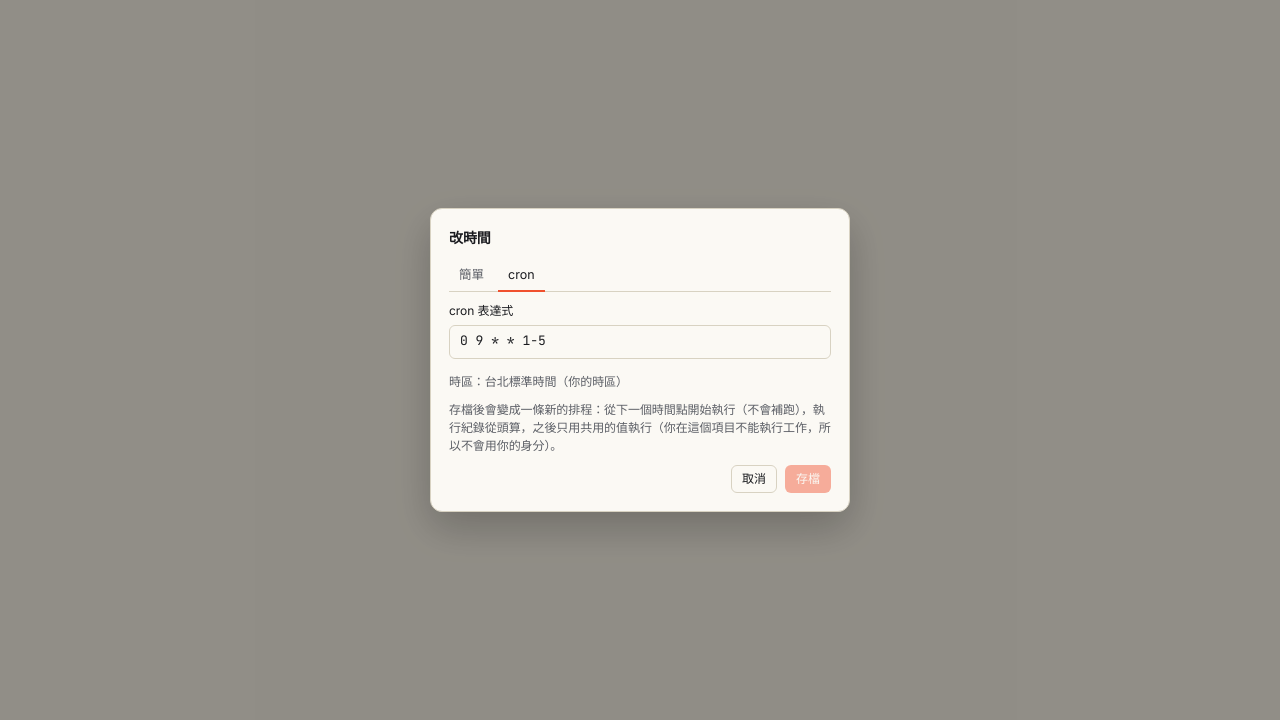
Test case: ScheduleTimeModal — 簡單 / cron (docs/plan-schedule-cron.md decision 4) › asks once before throwing an edited cron away
Type "0 9 * * 1-6" into the field labelled "cron 表達式" at (640, 342), box [449,324,831,358]
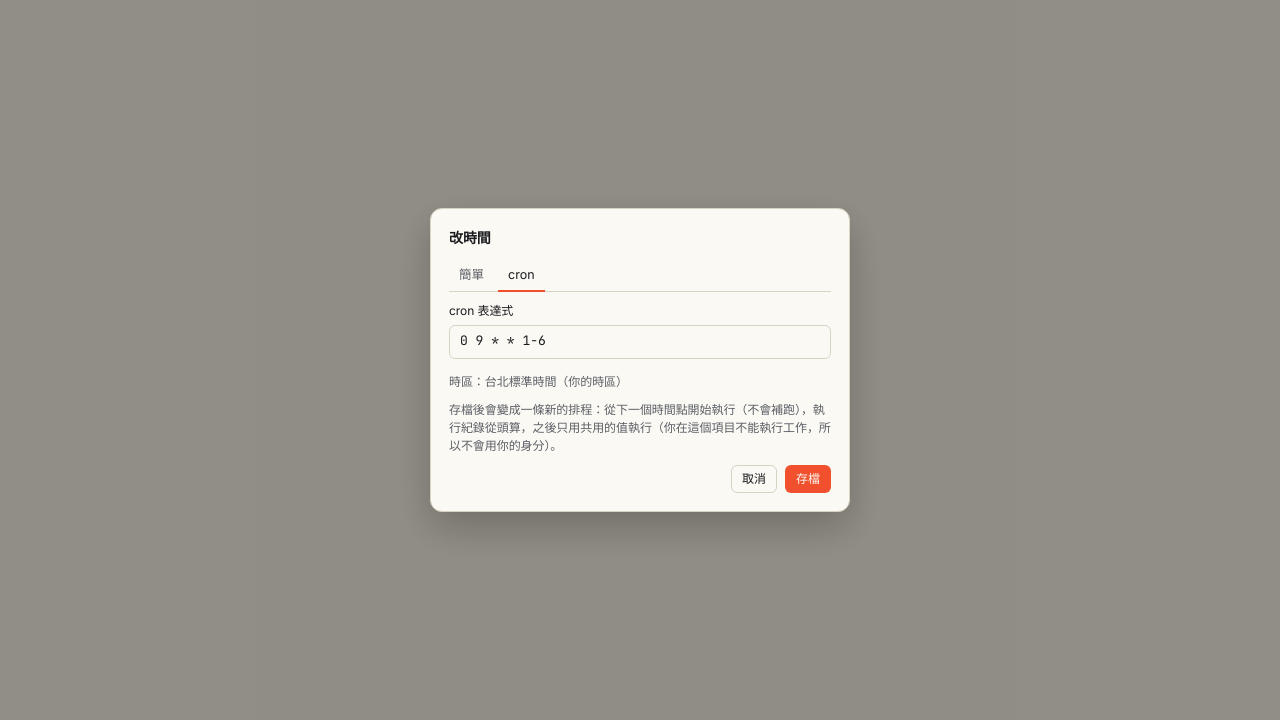
Click the button "取消" at (754, 479), box [731,465,777,493]
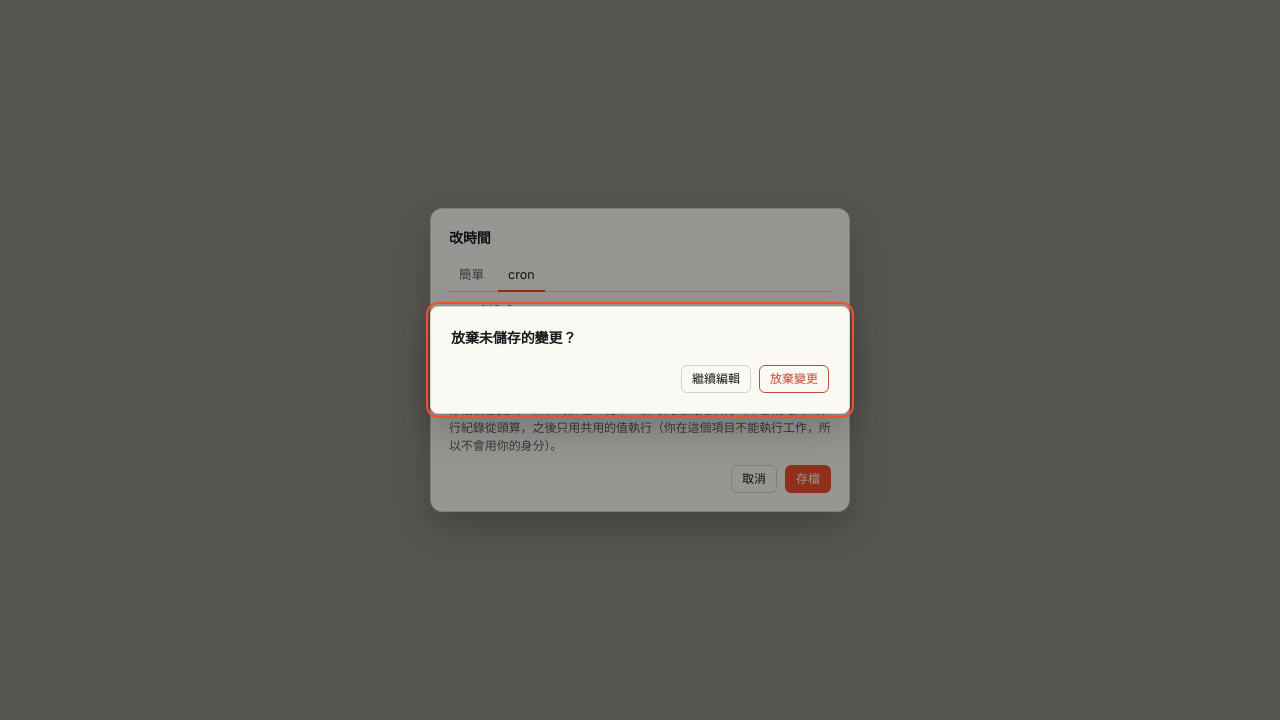
Click the button "繼續編輯" at (716, 379), box [681,365,751,393]
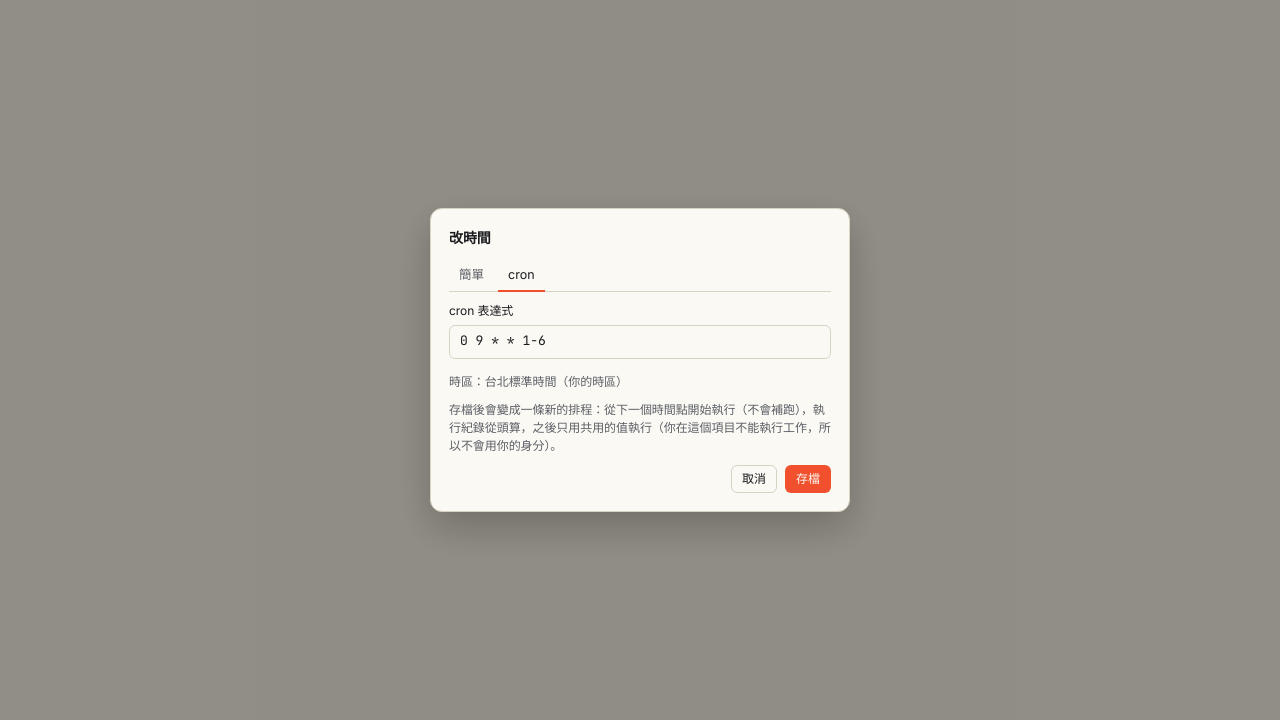
Check: the text "放棄未儲存的變更？" is gone
